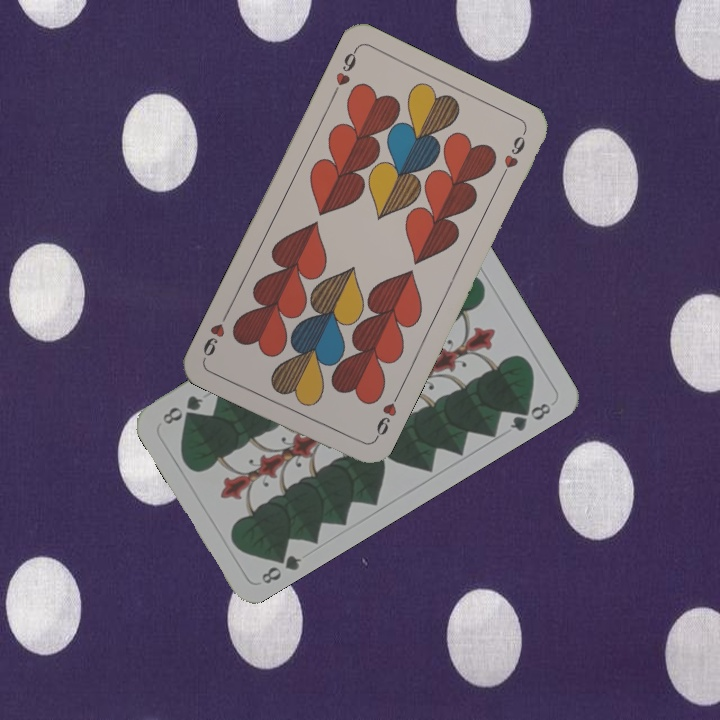G8: (257, 546, 305, 587)
H9: (369, 389, 402, 444), (328, 45, 360, 101)
